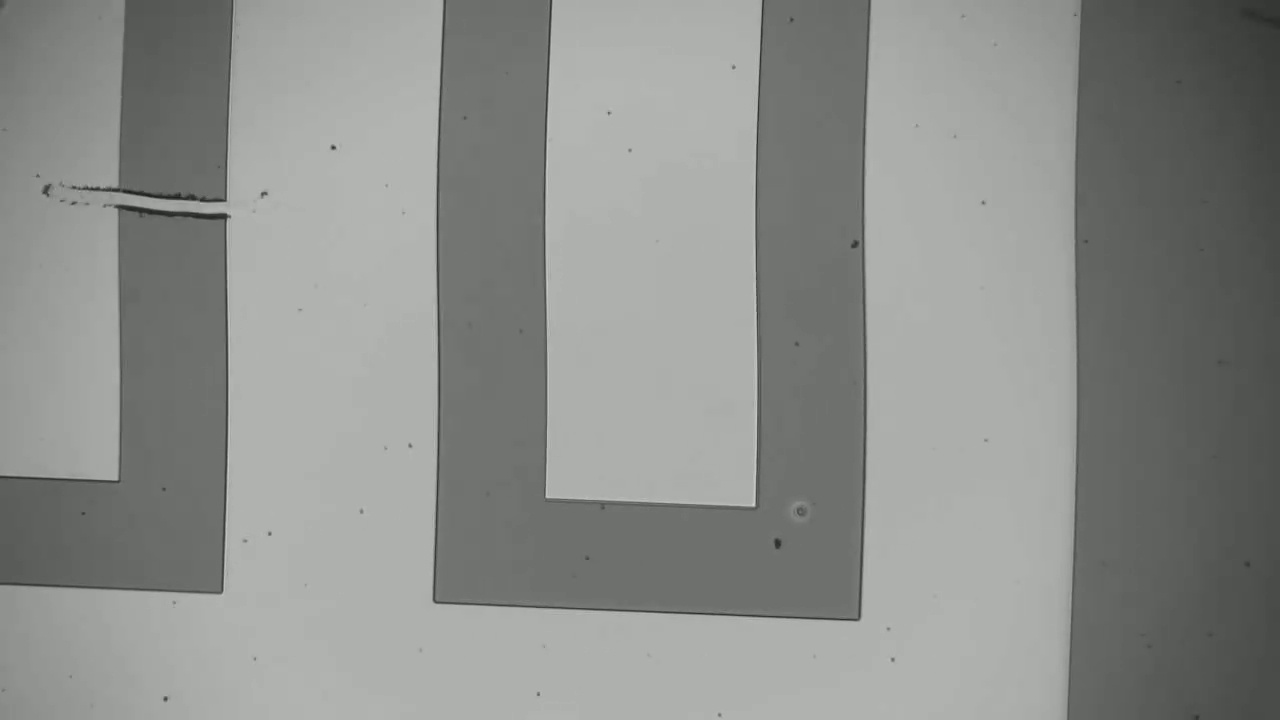Short_circuit: (87, 171, 246, 249)
